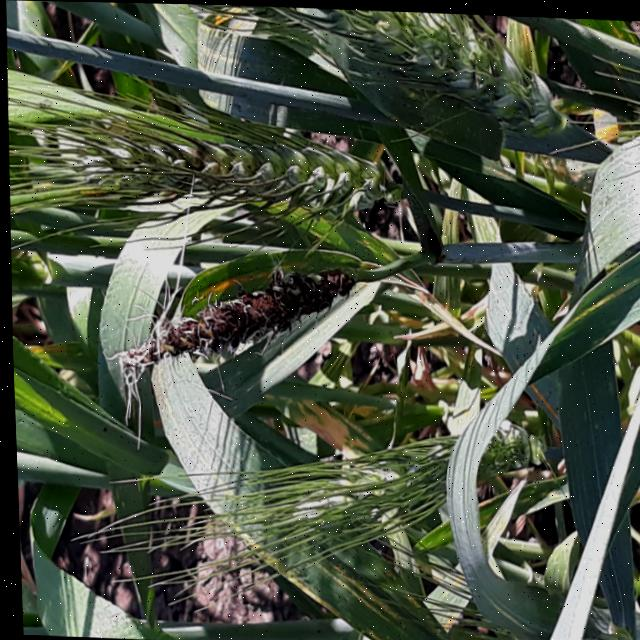loose_charred: (118, 236, 365, 399)
